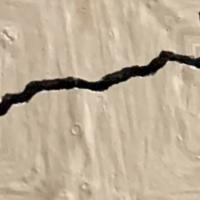crack: (0, 49, 199, 121)
